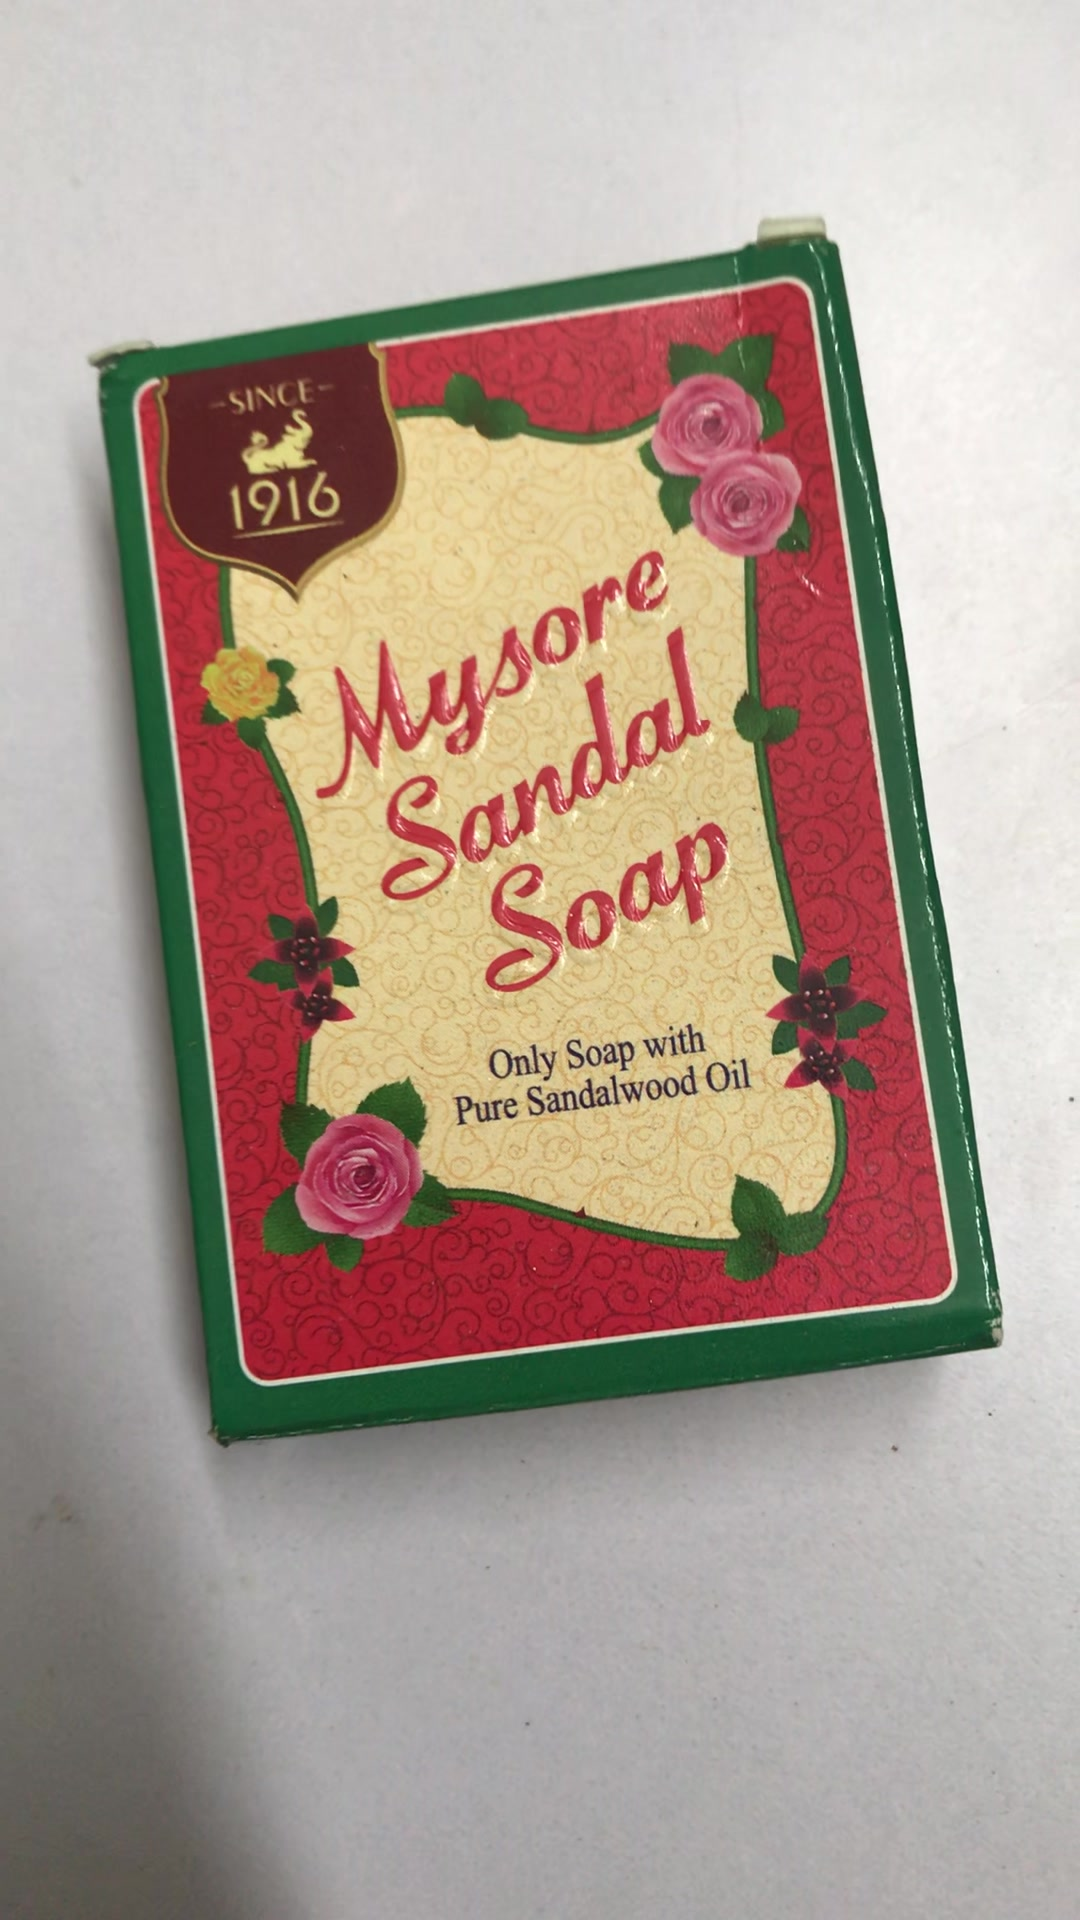mysore sandal soap: (103, 237, 1004, 1437)
